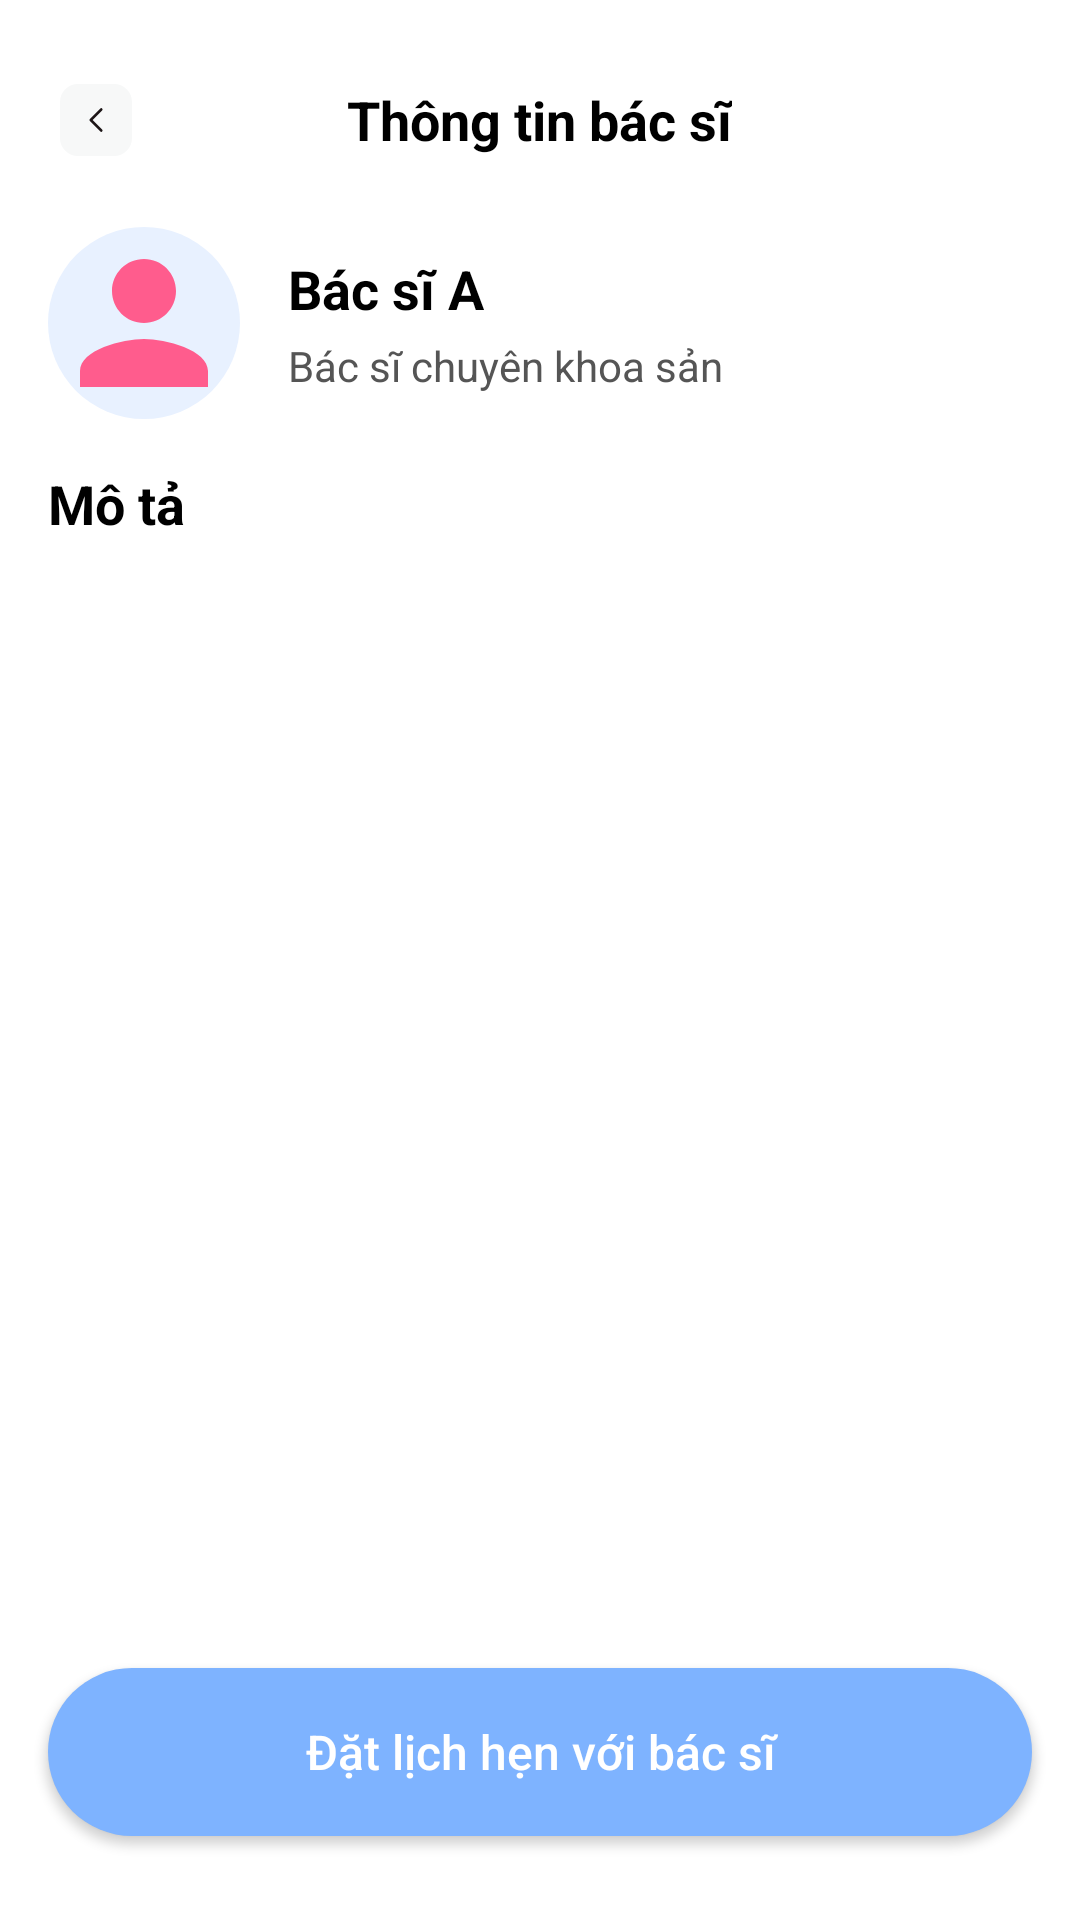

Screen size 1080px x 1920px. Icon name, then its box in pixels as (x1, y1, x2, y2):
Back: (89, 108, 103, 132)
